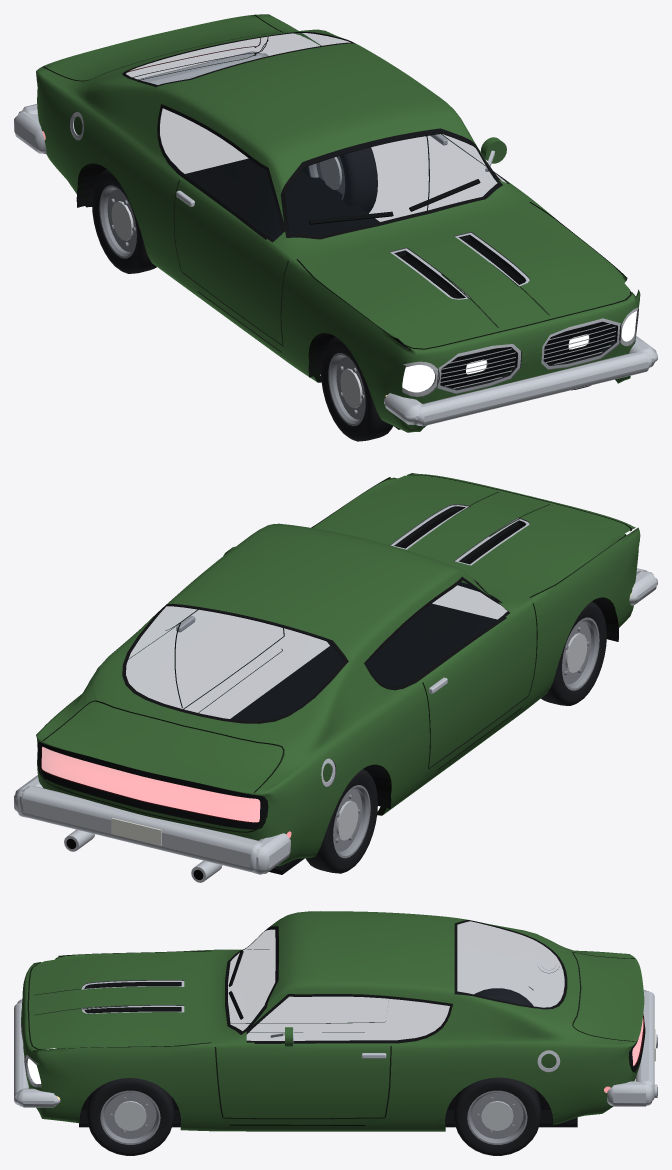
Rendered from car_muscle_green.glb.
The picture shows the model from 3 angles, top to bottom: view 1: azimuth 30°, elevation 25°; view 2: azimuth 150°, elevation 25°; view 3: azimuth 270°, elevation 25°; orthographic projection. The views are drawn at different scales.
Parts seen in each view (by area): view 1: body, wheel_fl, wheel_rl, wheel_rr; view 2: body, wheel_rl, wheel_fl; view 3: body, wheel_rr, wheel_fr, wheel_rl.
Boxes of the visible parts, <box> form: body: <box>14,14,657,432</box>; wheel_fl: <box>321,337,393,441</box>; wheel_rl: <box>92,169,156,273</box>; wheel_rr: <box>302,147,377,213</box>; body: <box>14,473,657,882</box>; wheel_rl: <box>305,769,377,873</box>; wheel_fl: <box>541,601,606,705</box>; body: <box>14,911,657,1131</box>; wheel_rr: <box>453,1077,540,1155</box>; wheel_fr: <box>86,1078,174,1155</box>; wheel_rl: <box>474,988,533,1006</box>.
Size of the model in its own units: 1.9 by 1.44 by 4.92.
